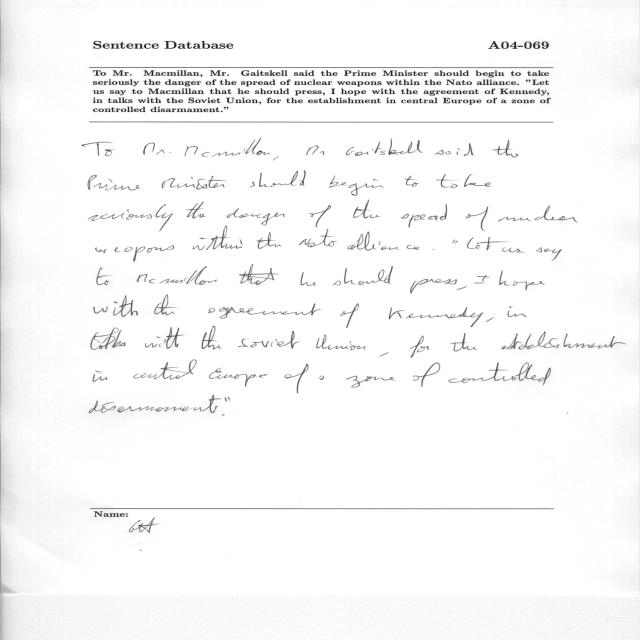word: (89, 395, 221, 413), (448, 363, 551, 386), (502, 331, 626, 350), (89, 204, 173, 231), (389, 307, 483, 327), (208, 303, 321, 319), (185, 138, 270, 157), (137, 266, 217, 285), (346, 138, 423, 156), (348, 232, 420, 251), (498, 206, 578, 223), (96, 245, 174, 262), (133, 360, 197, 379), (193, 226, 243, 250), (332, 266, 393, 285), (401, 204, 447, 228), (209, 368, 267, 387), (329, 176, 384, 196), (238, 331, 300, 348), (227, 208, 285, 226), (249, 171, 306, 188), (94, 295, 138, 317), (499, 270, 545, 290), (467, 237, 524, 253), (162, 176, 226, 190), (145, 327, 185, 349), (88, 175, 141, 191), (239, 264, 279, 285), (316, 335, 366, 351), (91, 327, 125, 350), (437, 174, 491, 188), (285, 364, 309, 394), (410, 279, 457, 294), (299, 229, 337, 247), (413, 362, 440, 387), (346, 376, 396, 388), (466, 207, 488, 232), (436, 143, 475, 156), (353, 200, 380, 218), (451, 333, 478, 351), (309, 205, 331, 227), (202, 326, 222, 350), (340, 303, 359, 328), (410, 335, 430, 358), (82, 142, 114, 156), (154, 295, 176, 315), (493, 140, 518, 157), (257, 232, 282, 249), (143, 142, 171, 155), (186, 202, 207, 218), (97, 267, 110, 285), (300, 272, 316, 286), (507, 306, 527, 317), (544, 249, 562, 261), (306, 146, 324, 156), (94, 370, 108, 382), (405, 176, 419, 187), (474, 275, 491, 284), (379, 352, 389, 357), (457, 287, 467, 291), (486, 317, 494, 322), (273, 156, 279, 161), (452, 239, 458, 244), (536, 248, 542, 253), (319, 376, 324, 380), (227, 397, 230, 401), (225, 397, 227, 401), (433, 249, 435, 250)
